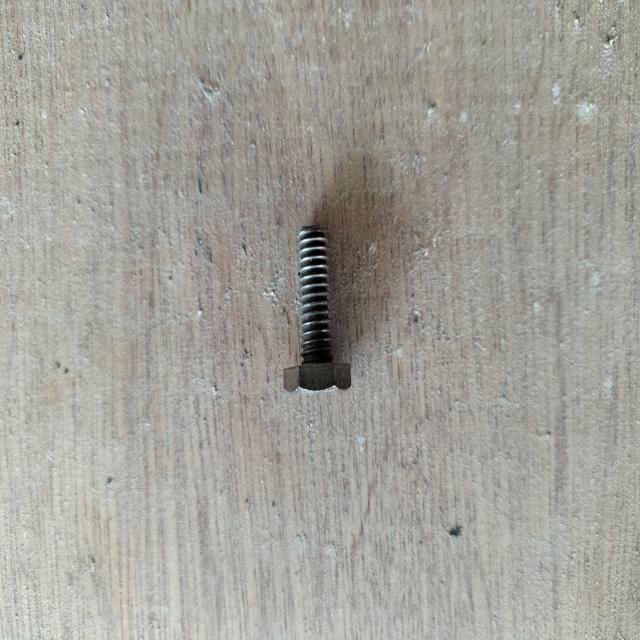bolt: (284, 229, 352, 392)
